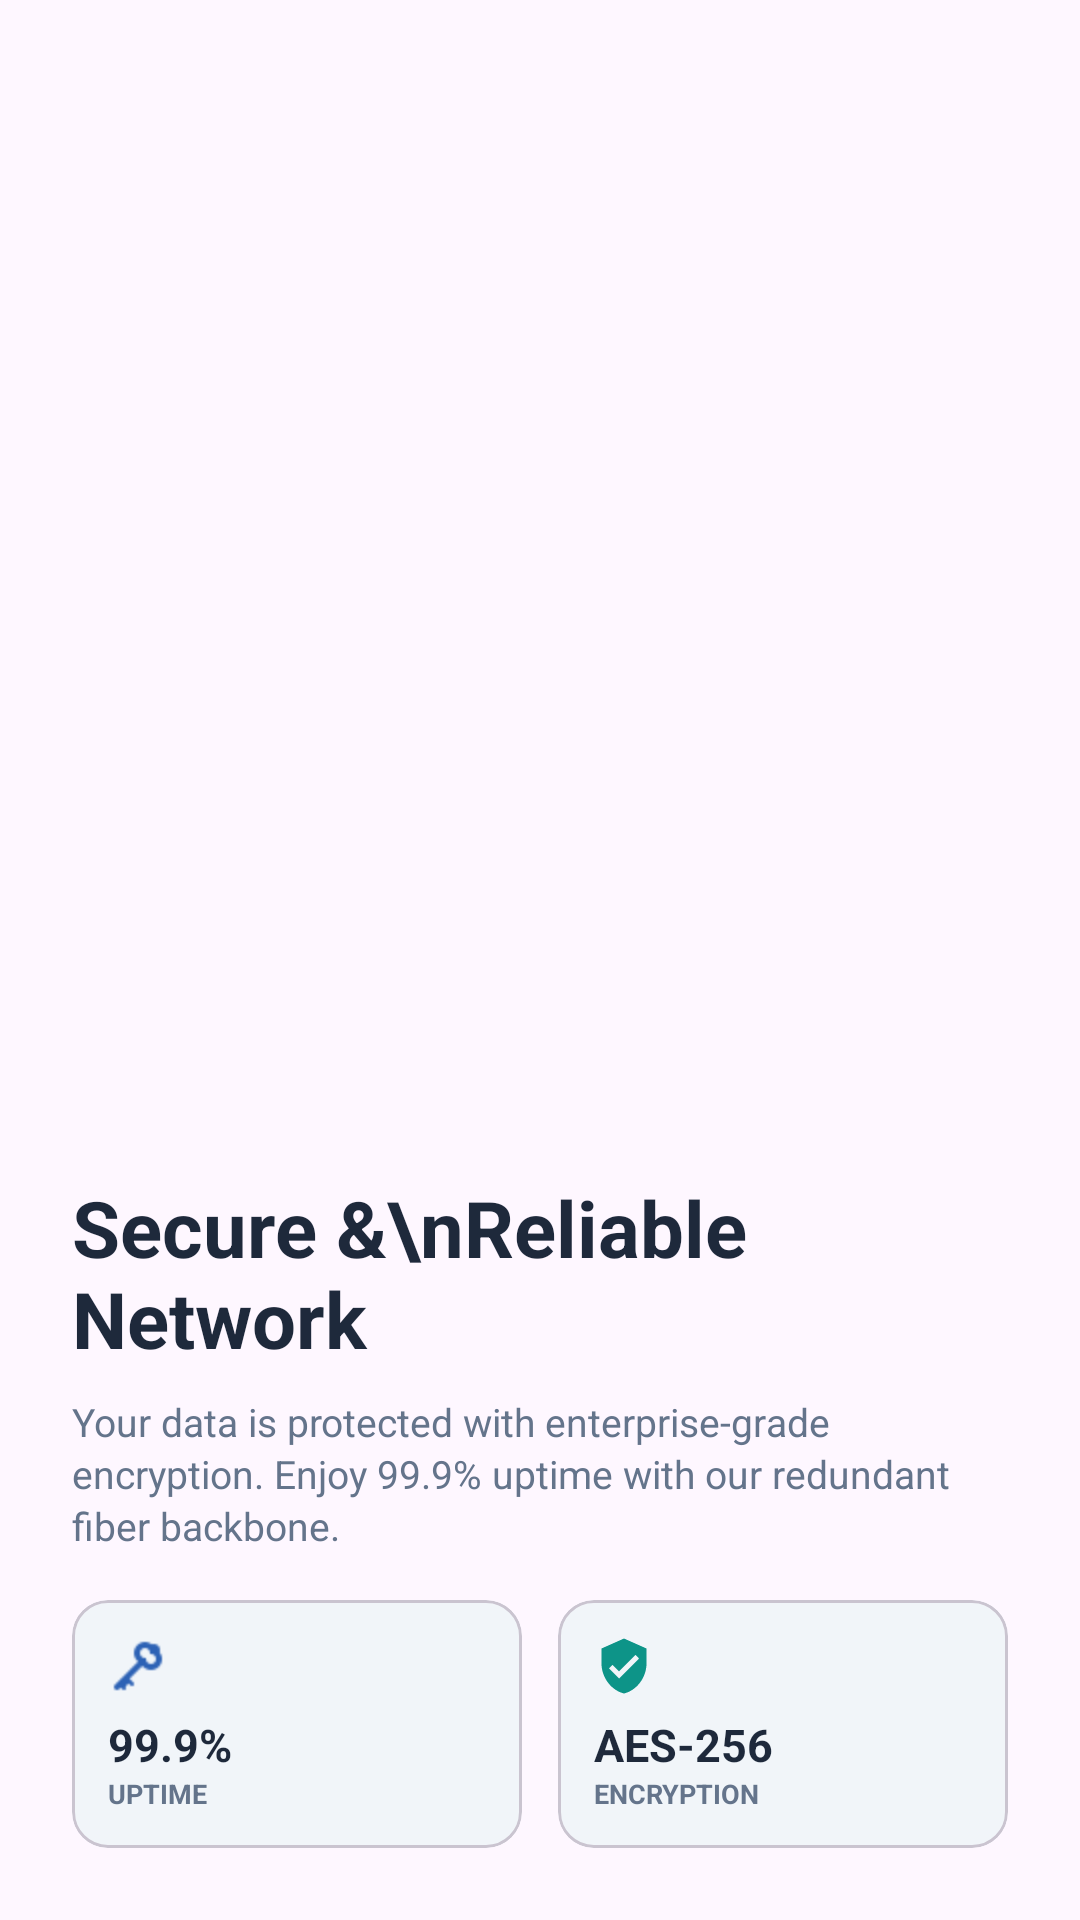

Where icons sit on this 1080*1920 app screen, as (x1, y1, x2, y2):
verified user: (601, 1638, 647, 1694)
